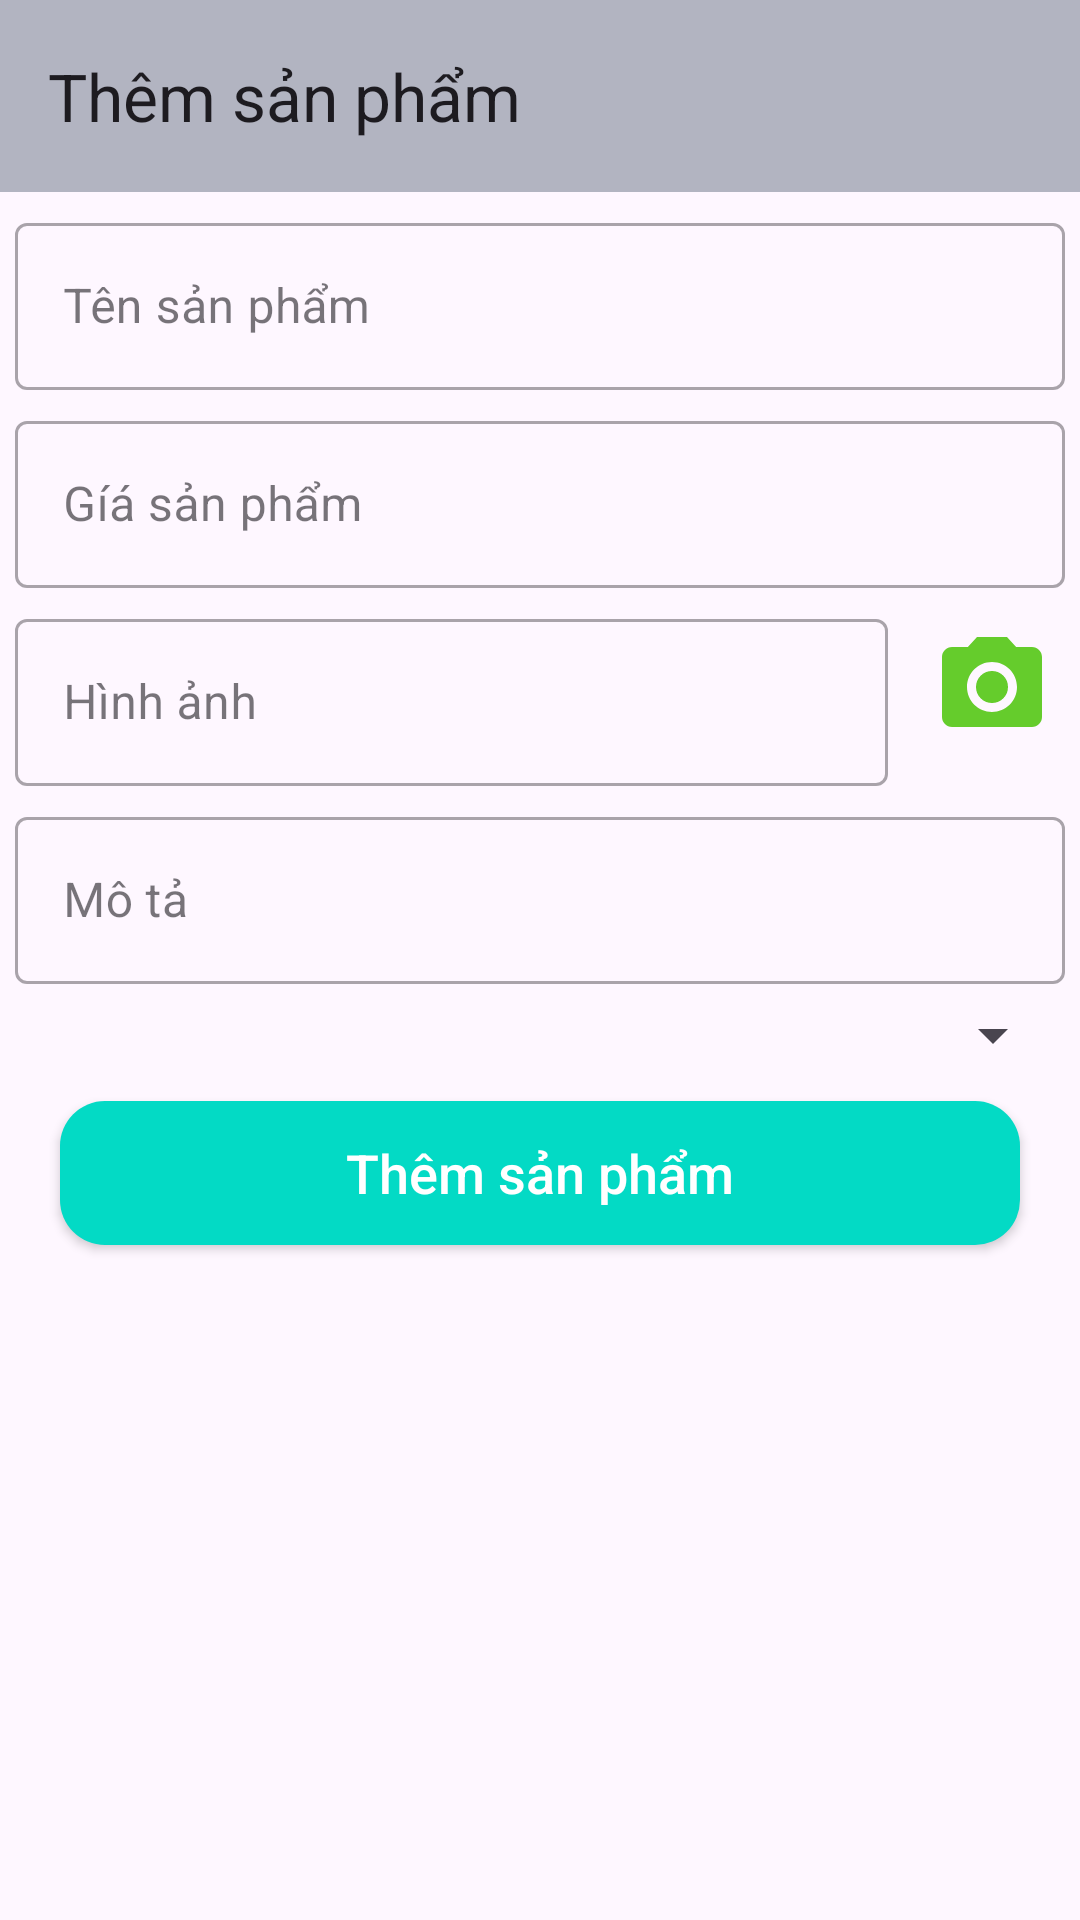

Locate icon controls on the screen. Image size 1080*1920, boxes as (x1, y1, x2, y2).
camera: (942, 637, 1042, 727)
